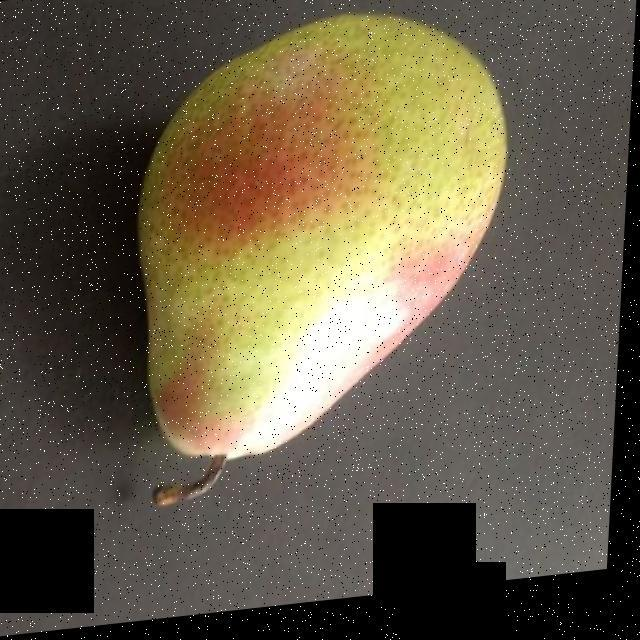pear: (142, 22, 505, 457)
